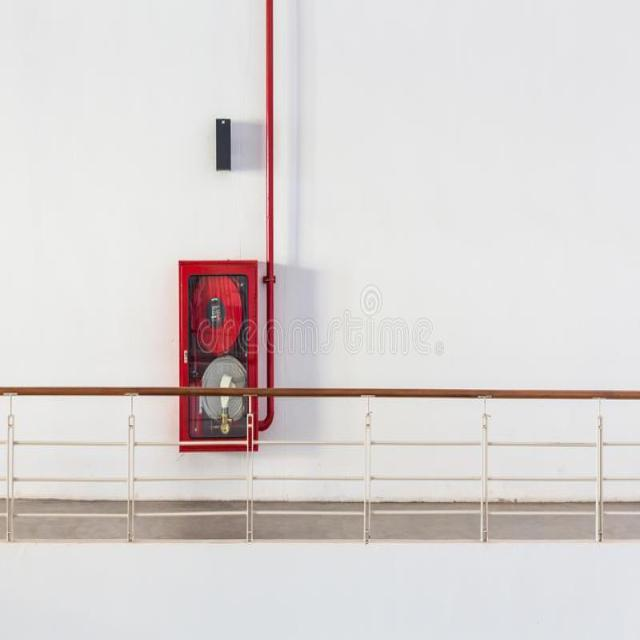fire_extinguisher: (184, 358, 208, 445)
